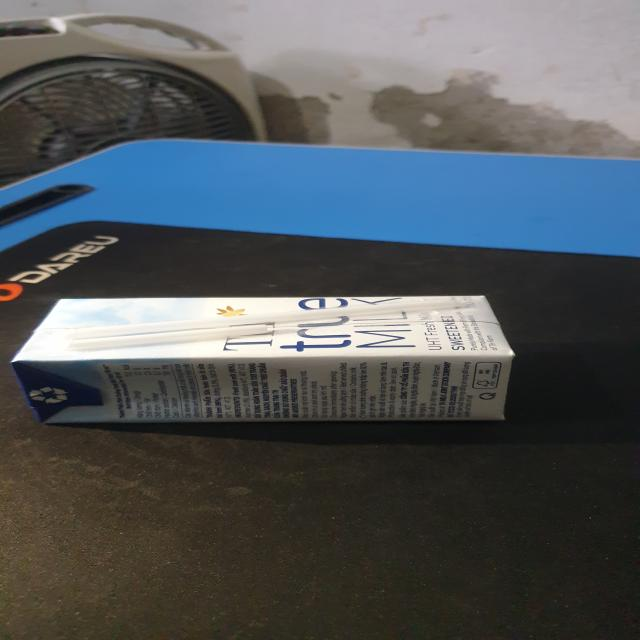TH: (11, 297, 526, 427)
